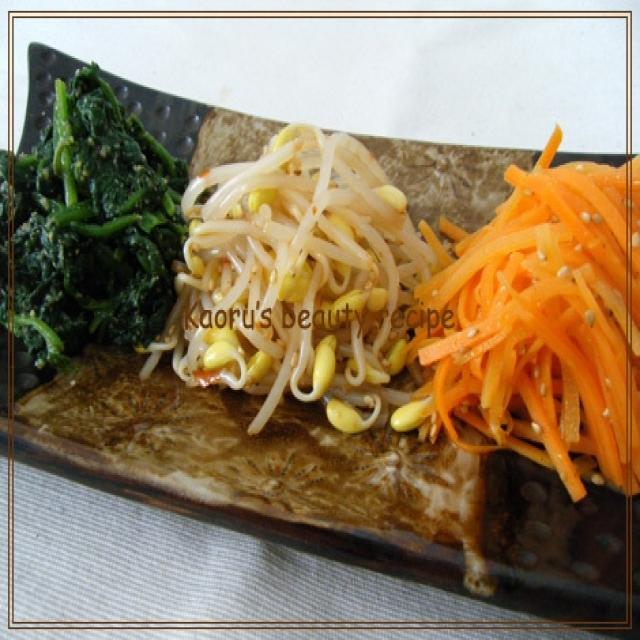蔬菜料理: (10, 0, 640, 637)
